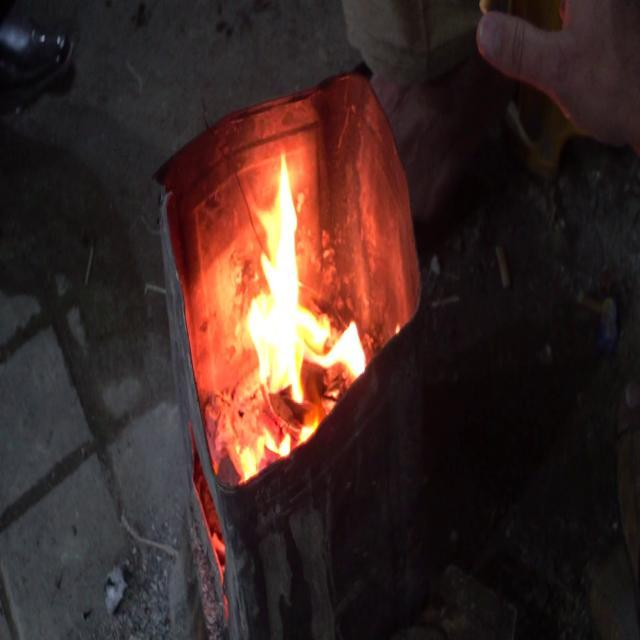Fire: (240, 151, 369, 440)
